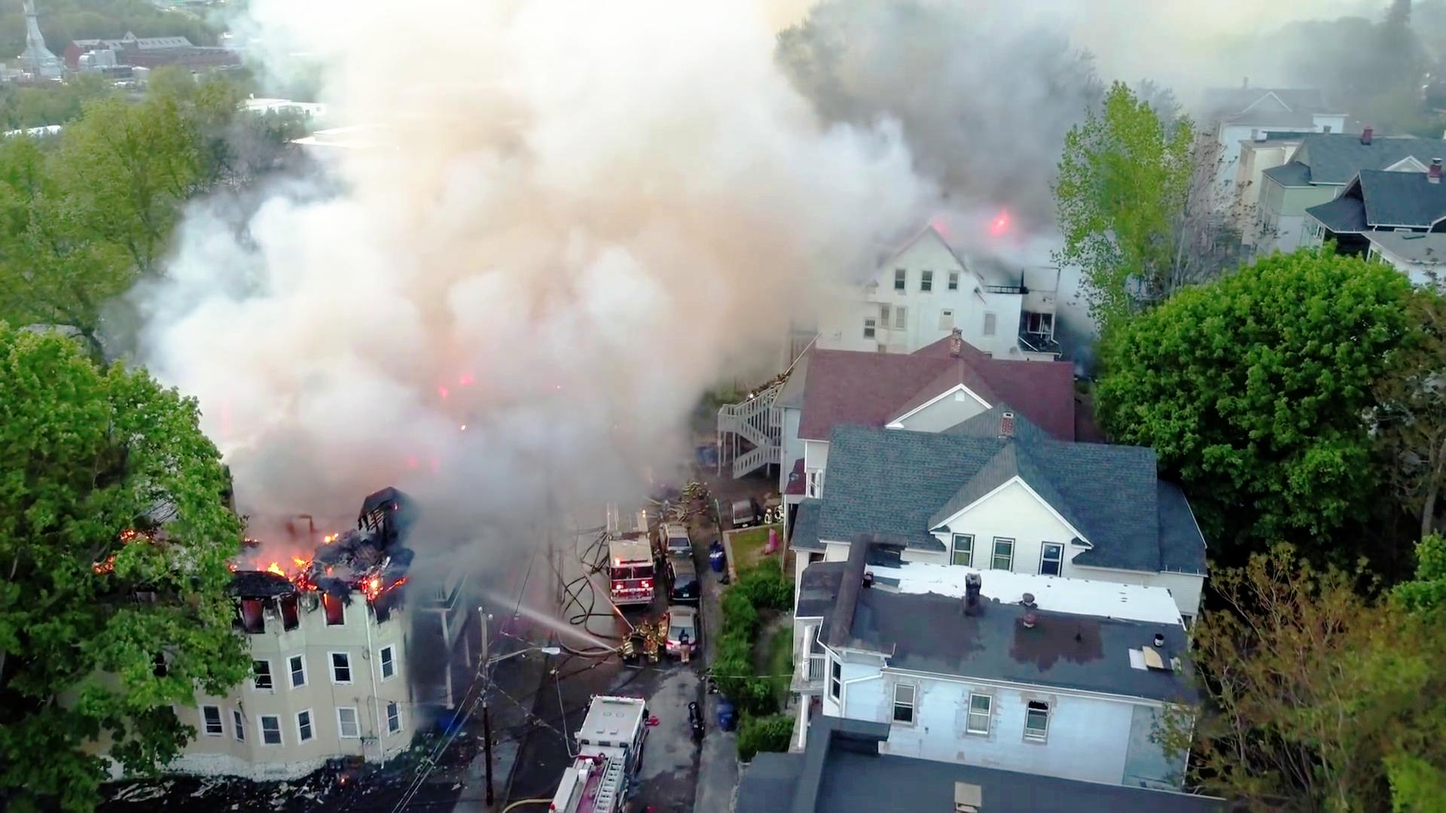smoke: (383, 145, 730, 390)
